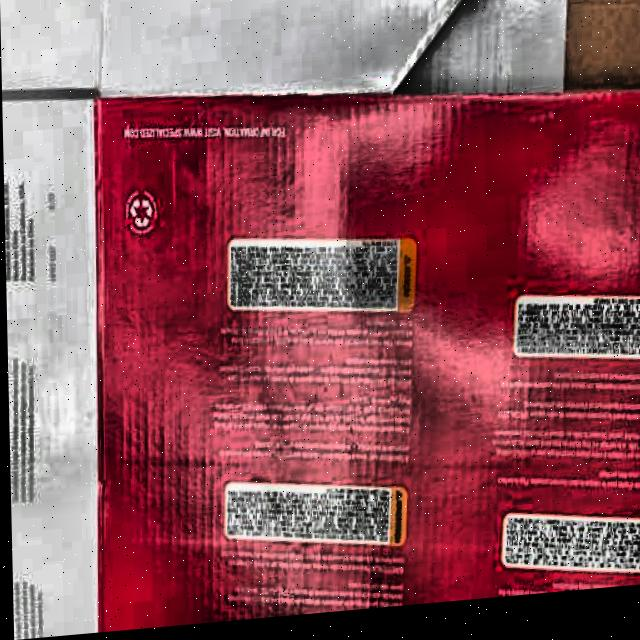cardboard: (83, 43, 640, 633)
